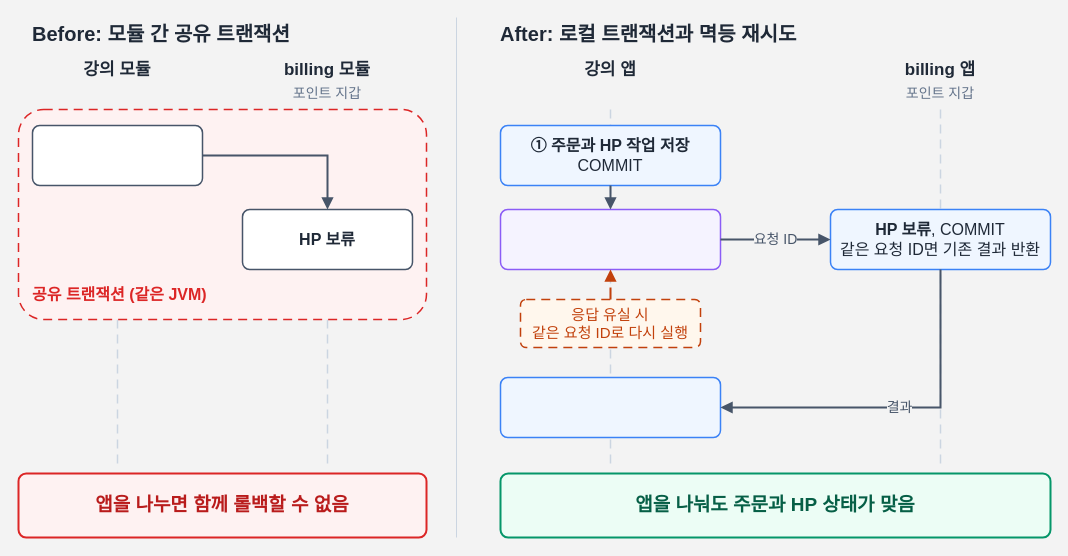
Image size: 1068x556. Some labels were removed from this diagram. Here are the shapes that lost their labels. From the top down, the box of each, then its label:
(31, 124, 203, 186): 주문 저장
(499, 208, 721, 270): ② HP 작업 실행 트랜잭션 밖에서 내부 HTTP
(499, 376, 721, 438): ③ 결과 반영 주문 완료, COMMIT
